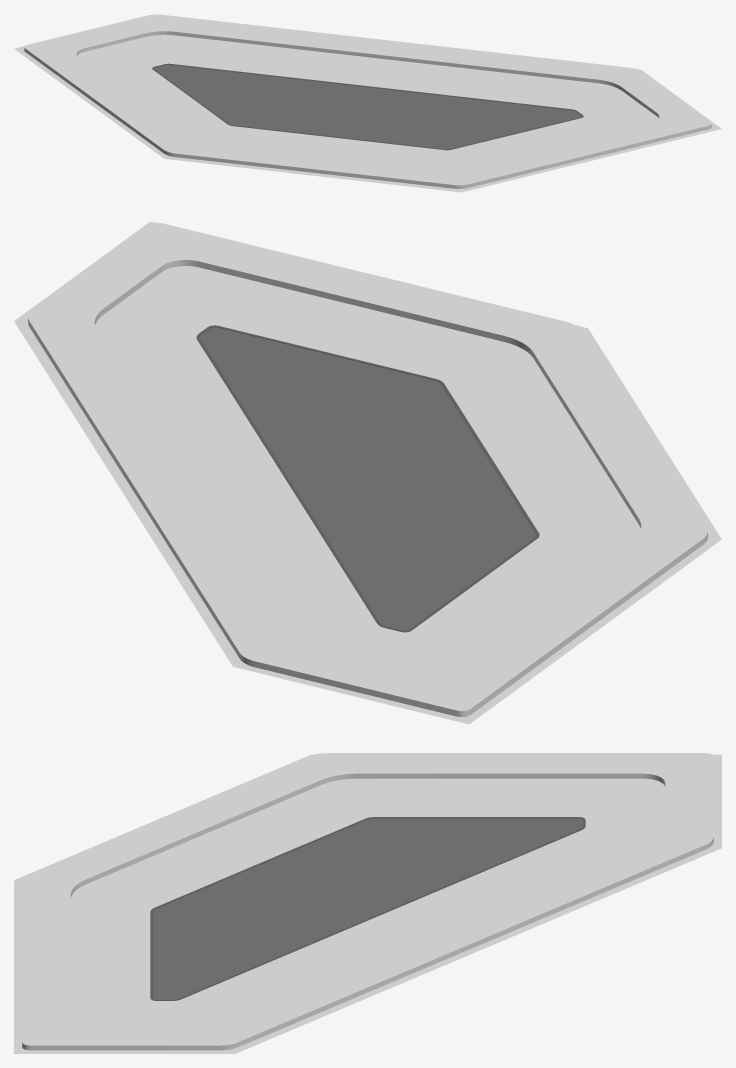
File: MMo_C_001_p_26x26.fbx
3 renders of one model, top to bottom at view 1: azimuth 30°, elevation 25°; view 2: azimuth 150°, elevation 25°; view 3: azimuth 270°, elevation 25°, orthographic. The views are drawn at different scales.
Visible parts, largest first — view 1: MMo_C_001_p_26x26; view 2: MMo_C_001_p_26x26; view 3: MMo_C_001_p_26x26.
Part boxes in pixels (left/top/right/bottom): MMo_C_001_p_26x26: left=14, top=14, right=721, bottom=192; MMo_C_001_p_26x26: left=14, top=221, right=721, bottom=724; MMo_C_001_p_26x26: left=14, top=753, right=721, bottom=1053.
Size of the model in its own units: 26.2 by 0.4 by 26.2.
